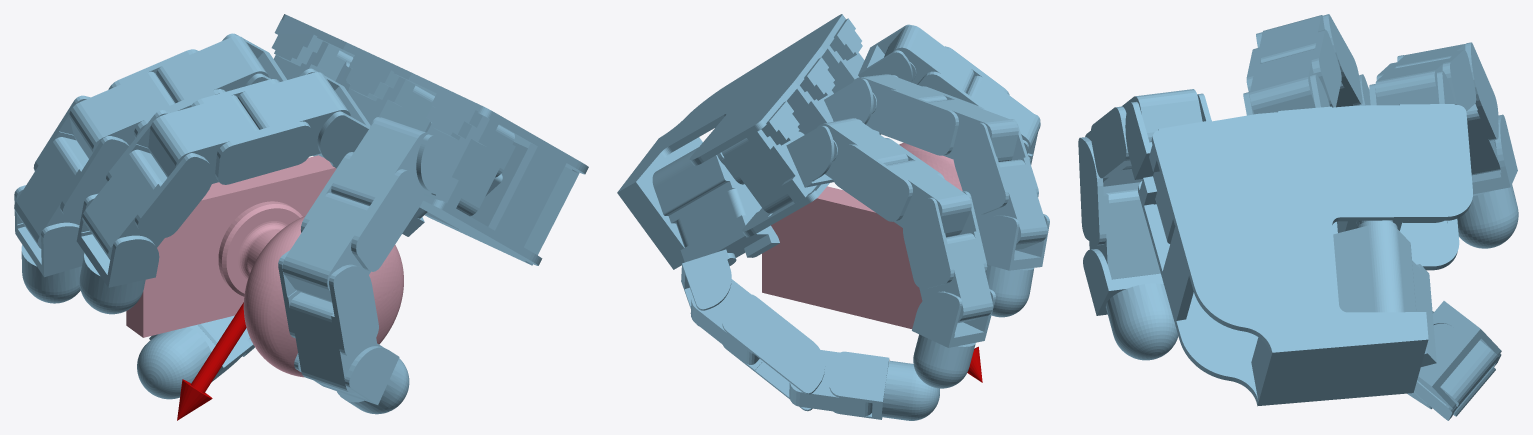
The picture shows the model from 3 angles, left to right: view 1: azimuth 30°, elevation 25°; view 2: azimuth 150°, elevation 25°; view 3: azimuth 270°, elevation 25°; orthographic projection. The views are drawn at different scales.
Parts seen in each view (by area): view 1: world, door_knob.stl; view 2: world, door_knob.stl; view 3: world.
Boxes of the visible parts, <box> form: world: <box>14,14,588,420</box>; door_knob.stl: <box>126,155,403,377</box>; world: <box>617,14,1049,420</box>; door_knob.stl: <box>762,142,962,328</box>; world: <box>1078,14,1518,420</box>.
Bounding box in the file's own units: 0.1968 × 0.1383 × 0.156.
